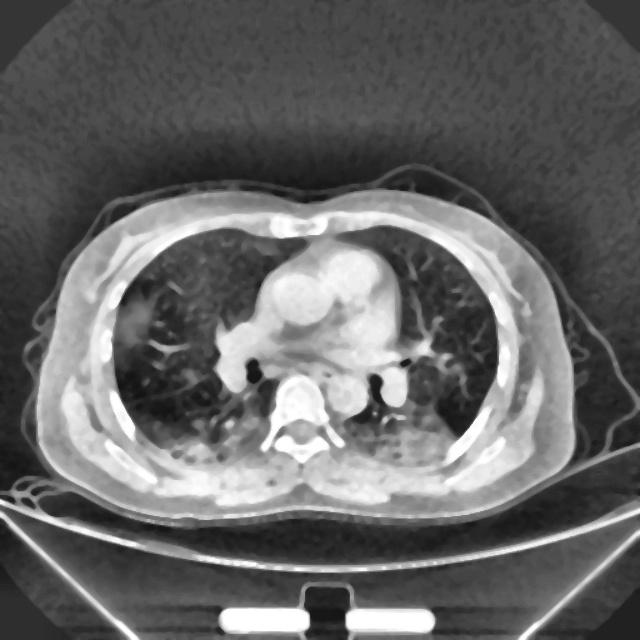covid: (25, 176, 578, 528)
